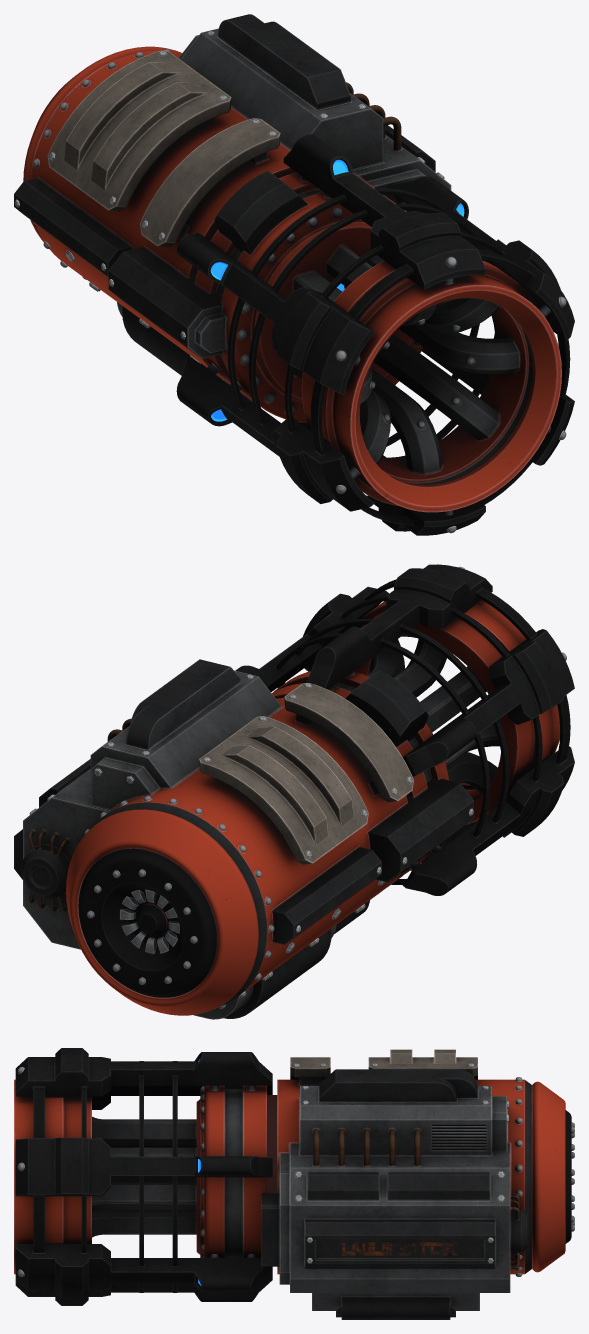
File: scifi_generator.glb
3 renders of one model, top to bottom at view 1: azimuth 30°, elevation 25°; view 2: azimuth 150°, elevation 25°; view 3: azimuth 270°, elevation 25°, orthographic. The views are drawn at different scales.
Visible parts, largest first — view 1: 1.001_K_0, 1.001_A_0, 1.001_C_0, 1.001_B_0, 1.001_G_0, 1.001_E_0, 1.001_F_0, 1.001_Material.001_0; view 2: 1.001_K_0, 1.001_G_0, 1.001_C_0, 1.001_B_0, 1.001_A_0, 1.001_E_0, 1.001_F_0; view 3: 1.001_K_0, 1.001_C_0, 1.001_A_0, 1.001_B_0, 1.001_G_0, 1.001_E_0, 1.001_F_0, 1.001_42_0.
Part boxes in pixels (box(x1,y1,x2,y2)): 1.001_K_0: box(14, 14, 451, 401); 1.001_A_0: box(194, 172, 561, 512); 1.001_C_0: box(176, 134, 574, 535); 1.001_B_0: box(227, 188, 570, 525); 1.001_G_0: box(23, 46, 365, 377); 1.001_E_0: box(15, 31, 550, 515); 1.001_F_0: box(33, 49, 566, 533); 1.001_Material.001_0: box(210, 159, 464, 421); 1.001_K_0: box(14, 659, 473, 1019); 1.001_G_0: box(66, 697, 407, 1015); 1.001_C_0: box(235, 564, 574, 933); 1.001_B_0: box(275, 579, 570, 884); 1.001_A_0: box(272, 600, 560, 889); 1.001_E_0: box(28, 671, 473, 980); 1.001_F_0: box(84, 566, 566, 1008); 1.001_K_0: box(225, 1049, 527, 1319); 1.001_C_0: box(15, 1048, 272, 1305); 1.001_A_0: box(14, 1079, 277, 1274); 1.001_B_0: box(33, 1061, 196, 1292); 1.001_G_0: box(277, 1079, 571, 1274); 1.001_E_0: box(210, 1063, 519, 1317); 1.001_F_0: box(17, 1067, 574, 1276); 1.001_42_0: box(342, 1242, 456, 1255).
Bounding box in the file's own units: 166 × 153 × 308.
Materials: 9 (8 with a texture image).
